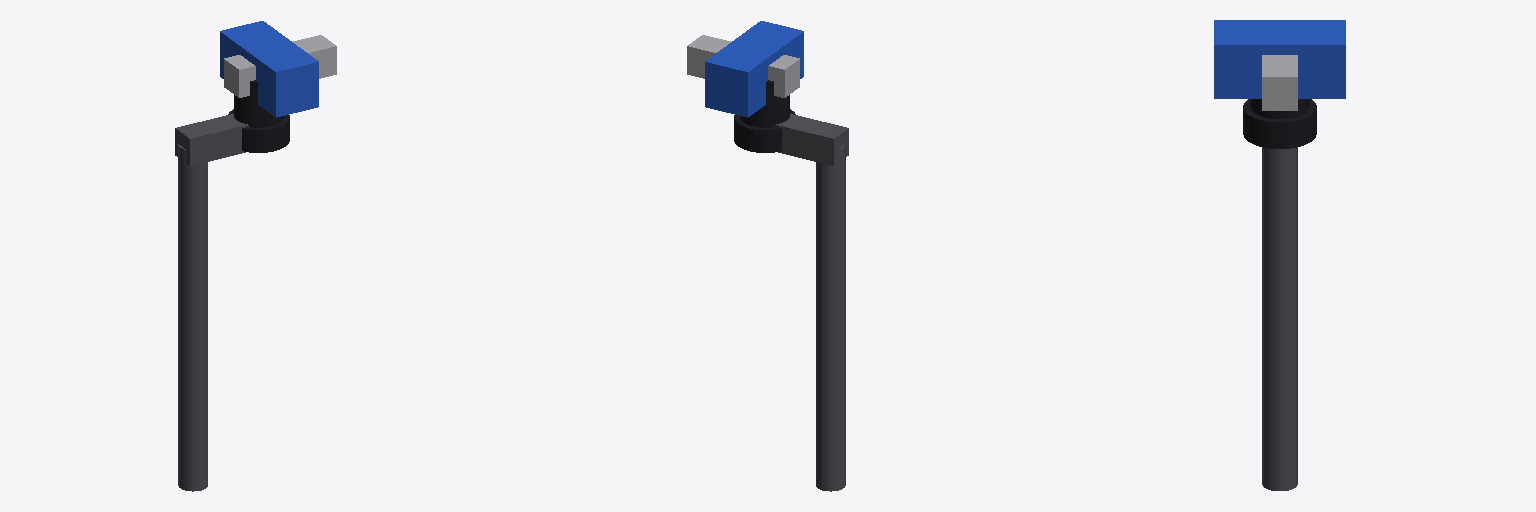
URDF robot description (head):
<?xml version="1.0"?>
<!--
  Pan/tilt head of the swerve robot: the Intel RealSense D435 (depth and colour) on one rigid head.
  Read by robot_state_publisher (TF), mcp_server (aiming) and the web_ui 3D view.

  ESTIMATES: the mount (head_mount_joint xyz 0.15 0.10 0.31), the tilt offset (0.04 m) and the
  d435_joint origin are estimates; the head calibration (head_chain.json) refines them.

  Servo centre 2048 = 0 rad = head straight ahead and level.
  Sign conventions (REP 103): head_pan positive = looking left (CCW seen from above, +z);
  head_tilt positive = looking down (pitch about +y, decided in ruling R3).
  head_tilt range -30..+45 deg: the reprinted mount allows 45 deg down (docs/runbooks/head-arm-calibration.md).
  Optical frames: z forward, x right, y down (rpy -1.5708 0 -1.5708 from the body frame).
  Velocity limits 1.0 rad/s are the D3 caps.

  head_post comes up from behind the lidar (laser_frame at 0.158 0.06 0.20, radius about 0.035 m)
  and bends forward above it to the pan axis, so it hides as little of the lidar view as possible.
  No meshes: primitives only.
-->
<robot name="head">
  <link name="base_link"/>

  <!-- Post: vertical column behind the lidar (x 0.09, back edge of lidar is 0.123), then a
       horizontal arm at z 0.30 forward to the pan base. -->
  <link name="head_post">
    <visual>
      <origin xyz="0.09 0.10 0.15" rpy="0 0 0"/>
      <geometry><cylinder radius="0.012" length="0.30"/></geometry>
      <material name="head_post_grey"><color rgba="0.35 0.35 0.38 1"/></material>
    </visual>
    <visual>
      <origin xyz="0.12 0.10 0.30" rpy="0 0 0"/>
      <geometry><box size="0.08 0.024 0.024"/></geometry>
      <material name="head_post_grey"/>
    </visual>
  </link>
  <joint name="head_post_joint" type="fixed">
    <parent link="base_link"/>
    <child link="head_post"/>
    <origin xyz="0 0 0" rpy="0 0 0"/>
  </joint>

  <link name="head_pan_base">
    <visual>
      <origin xyz="0 0 -0.01" rpy="0 0 0"/>
      <geometry><cylinder radius="0.025" length="0.02"/></geometry>
      <material name="head_servo_dark"><color rgba="0.15 0.15 0.17 1"/></material>
    </visual>
  </link>
  <joint name="head_mount_joint" type="fixed">
    <parent link="base_link"/>
    <child link="head_pan_base"/>
    <origin xyz="0.15 0.10 0.31" rpy="0 0 0"/>
  </joint>

  <link name="head_pan_link">
    <visual>
      <origin xyz="0 0 0.02" rpy="0 0 0"/>
      <geometry><cylinder radius="0.02" length="0.04"/></geometry>
      <material name="head_servo_dark"/>
    </visual>
  </link>
  <joint name="head_pan" type="revolute">
    <parent link="head_pan_base"/>
    <child link="head_pan_link"/>
    <origin xyz="0 0 0" rpy="0 0 0"/>
    <axis xyz="0 0 1"/>
    <limit lower="-1.5708" upper="1.5708" effort="2.0" velocity="1.0"/>
  </joint>

  <link name="head_link">
    <visual>
      <origin xyz="0.01 0 0" rpy="0 0 0"/>
      <geometry><box size="0.04 0.09 0.04"/></geometry>
      <material name="head_body_blue"><color rgba="0.2 0.4 0.8 1"/></material>
    </visual>
  </link>
  <joint name="head_tilt" type="revolute">
    <parent link="head_pan_link"/>
    <child link="head_link"/>
    <origin xyz="0 0 0.04" rpy="0 0 0"/>
    <axis xyz="0 1 0"/>
    <limit lower="-0.5236" upper="0.7854" effort="2.0" velocity="1.0"/>
  </joint>

  <!-- Intel RealSense D435 on the head (design D4): the driver publishes no TF, this URDF owns every d435 frame.
       d435_joint xyz 0.02 0 0 is the CAD start at the old head unit's centre; the head-from-arm fit refines it.
       d435_link is the depth frame (left imager); d435_color_joint is the factory extrinsic, see its comment. -->
  <link name="d435_link">
    <visual>
      <origin xyz="0 0 0" rpy="0 0 0"/>
      <geometry><box size="0.090 0.025 0.025"/></geometry>
      <material name="d435_silver"><color rgba="0.7 0.7 0.72 1"/></material>
    </visual>
  </link>
  <joint name="d435_joint" type="fixed">
    <parent link="head_link"/>
    <child link="d435_link"/>
    <origin xyz="0.02 0 0" rpy="0 0 0"/>
  </joint>
  <link name="d435_depth_frame"/>
  <joint name="d435_depth_joint" type="fixed">
    <parent link="d435_link"/>
    <child link="d435_depth_frame"/>
    <origin xyz="0 0 0" rpy="0 0 0"/>
  </joint>
  <link name="d435_depth_optical_frame"/>
  <joint name="d435_depth_optical_joint" type="fixed">
    <parent link="d435_depth_frame"/>
    <child link="d435_depth_optical_frame"/>
    <origin xyz="0 0 0" rpy="-1.5707963 0 -1.5707963"/>
  </joint>
  <link name="d435_color_frame"/>
  <!-- Factory Color-to-Depth extrinsic of the head D435 (device serial 935422070045, ASIC serial / firmware update id
       935723024187), read 2026-10-28 by the device mode of scripts/d435_diag.sh (rs-enumerate-devices -c). Optical axes:
       t = (-0.0150171, 0.0000698, 0.0001761) m; rotated to body axes (x = z_opt, y = -x_opt, z = -y_opt), as
       realsense2_camera would publish it: the colour imager sits 15 mm to the camera's left (+y) of the left imager. -->
  <joint name="d435_color_joint" type="fixed">
    <parent link="d435_link"/>
    <child link="d435_color_frame"/>
    <origin xyz="0.0001761 0.0150171 -0.0000698" rpy="0.0082621 -0.0014919 0.0056971"/>
  </joint>
  <link name="d435_color_optical_frame"/>
  <joint name="d435_color_optical_joint" type="fixed">
    <parent link="d435_color_frame"/>
    <child link="d435_color_optical_frame"/>
    <origin xyz="0 0 0" rpy="-1.5707963 0 -1.5707963"/>
  </joint>
</robot>

--- What the picture shows (computed from the rendered views, not written in the file) ---
Views: 3 orthographic renders of the robot side by side, from view 1: azimuth 30°, elevation 25°; view 2: azimuth 150°, elevation 25°; view 3: azimuth 270°, elevation 25°.
Model head with 10 links and 9 joints (2 revolute, 7 fixed), rooted at base_link, posed all joints at 0.
Links seen in each view (by area): view 1: head_post, head_link, d435_link, head_pan_base, head_pan_link; view 2: head_post, head_link, d435_link, head_pan_base, head_pan_link; view 3: head_post, head_link, head_pan_base, d435_link, head_pan_link.
Boxes of the visible links, <box> form: head_post: <box>175,114,248,491</box>; head_link: <box>220,21,318,117</box>; d435_link: <box>224,35,336,97</box>; head_pan_base: <box>228,109,289,152</box>; head_pan_link: <box>234,80,283,127</box>; head_post: <box>775,114,848,491</box>; head_link: <box>705,21,803,117</box>; d435_link: <box>687,35,799,97</box>; head_pan_base: <box>734,109,795,152</box>; head_pan_link: <box>740,80,789,127</box>; head_post: <box>1262,147,1297,490</box>; head_link: <box>1214,20,1345,98</box>; head_pan_base: <box>1243,99,1316,148</box>; d435_link: <box>1262,55,1297,110</box>; head_pan_link: <box>1250,99,1309,118</box>.
Bounding box of the posed robot: 0.137 × 0.09 × 0.37 m (x, y, z).
Geometry: primitives only (box / cylinder / sphere), no mesh files.
